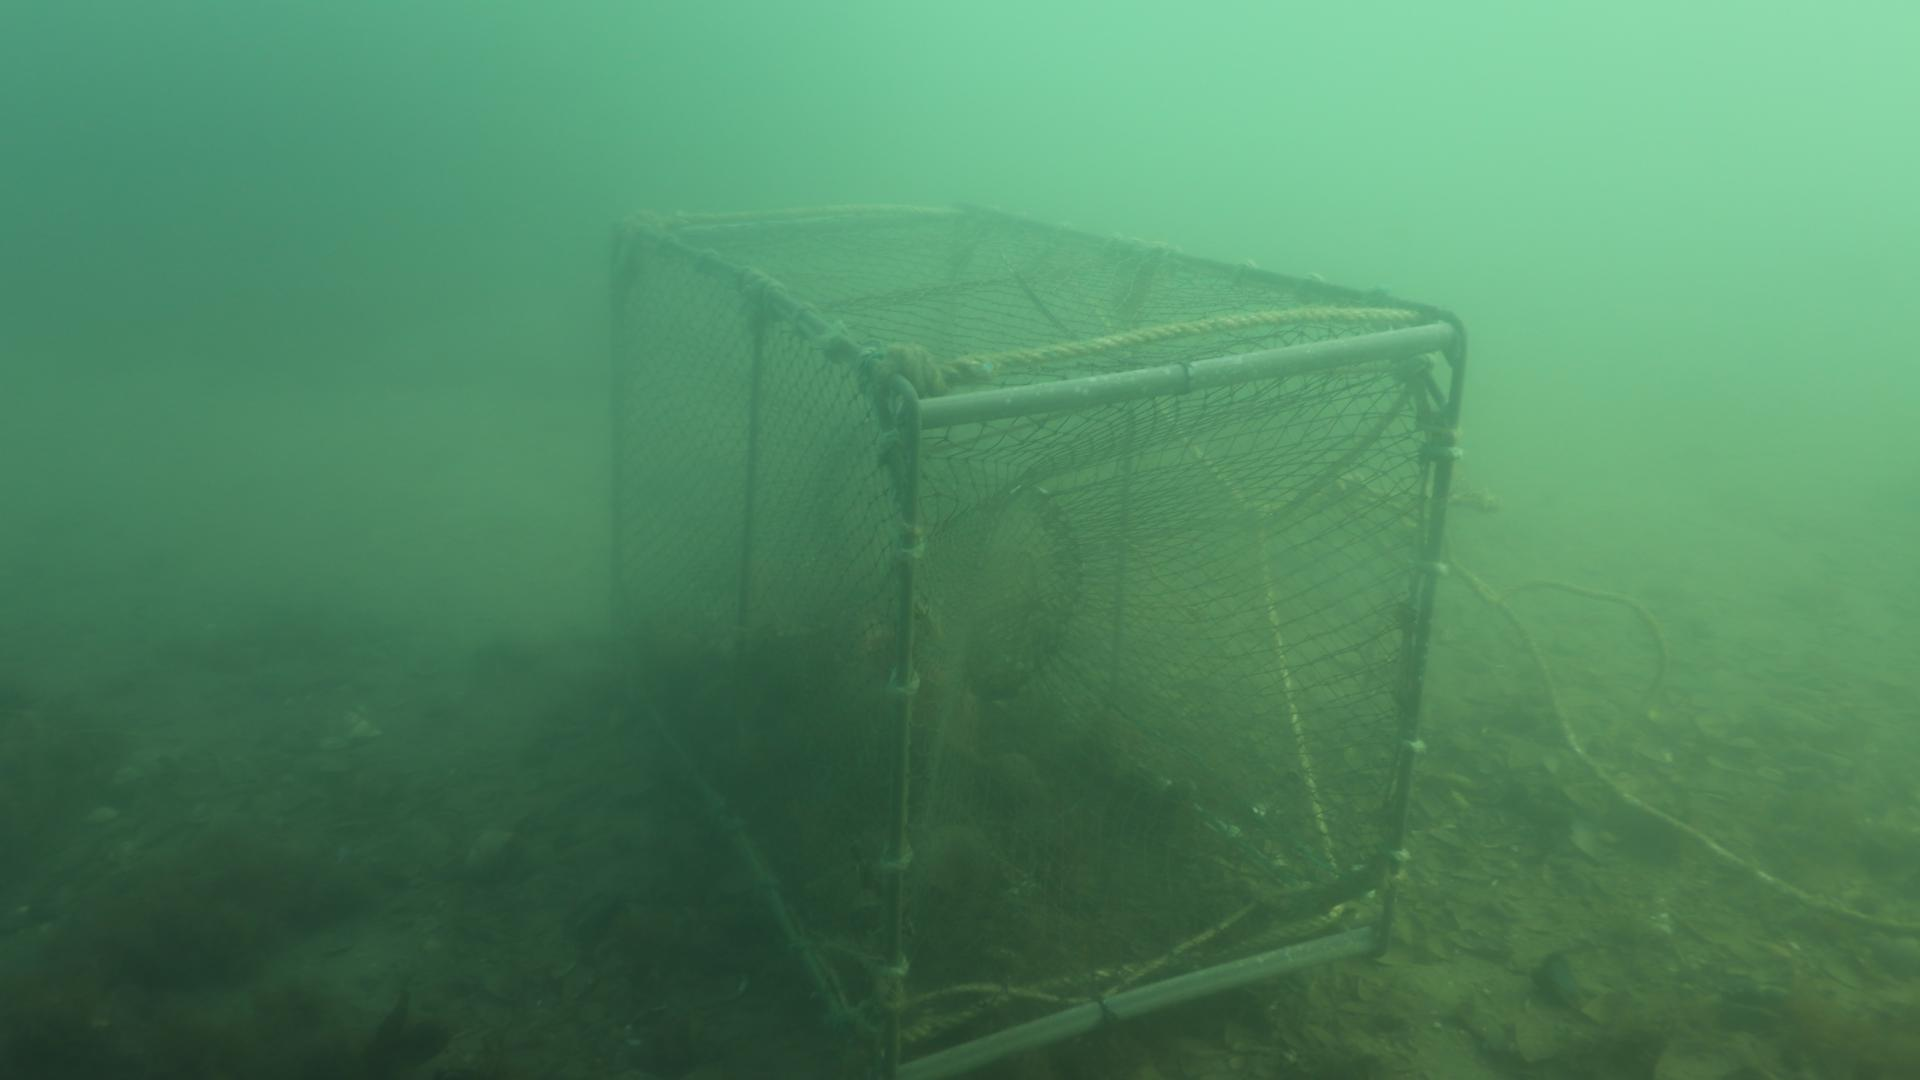rectangular fish trap: (608, 199, 1472, 1080)
